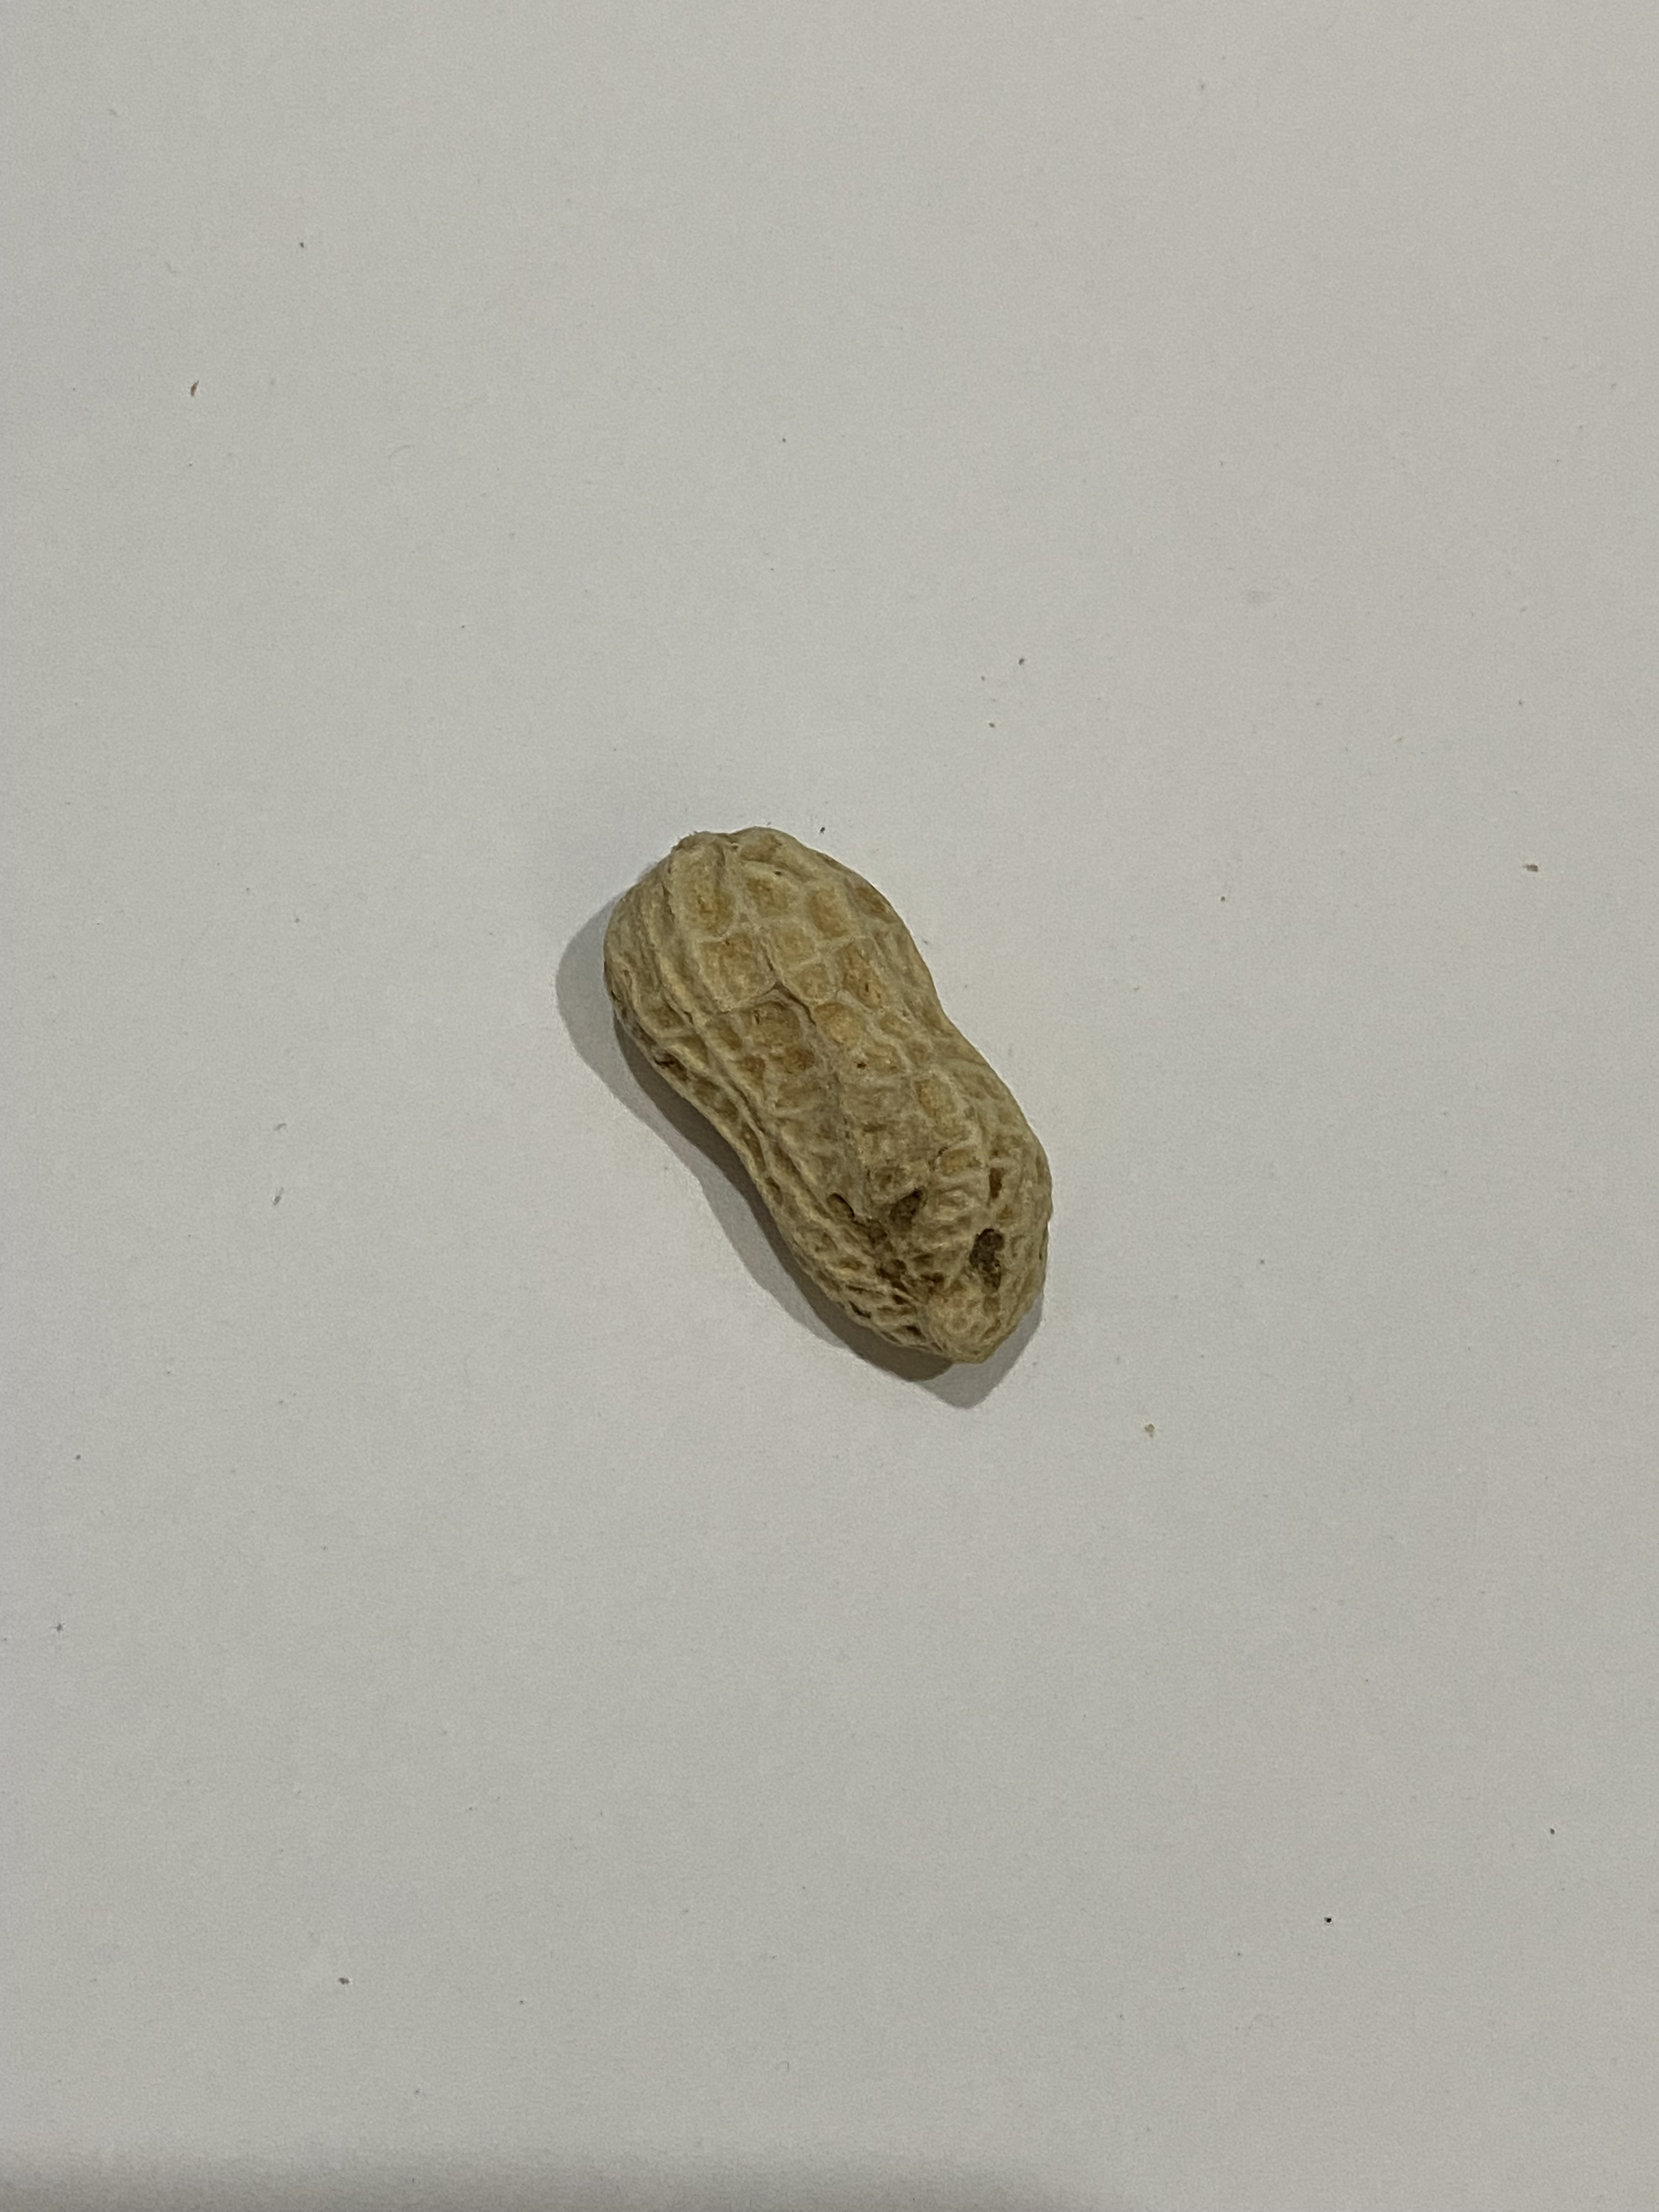kacang2: (558, 822, 1122, 1372)
